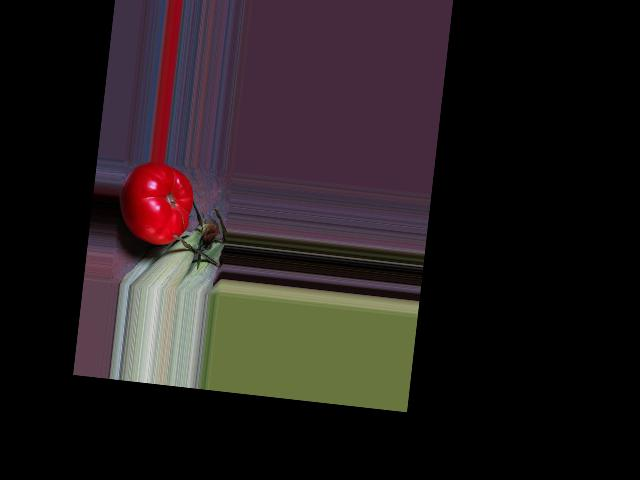tomato: (114, 159, 196, 248)
